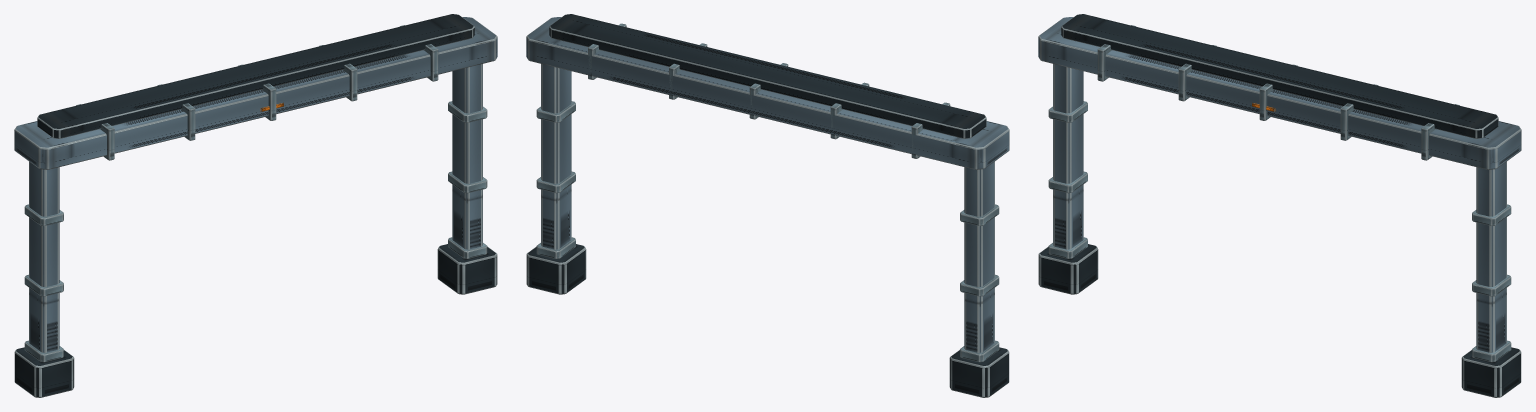
Rendered from V46_ServiceGantry.fbx.
The picture shows the model from 3 angles, left to right: view 1: azimuth 30°, elevation 25°; view 2: azimuth 150°, elevation 25°; view 3: azimuth 330°, elevation 25°; orthographic projection.
Visible parts, largest first — view 1: V46_ServiceGantry; view 2: V46_ServiceGantry; view 3: V46_ServiceGantry.
Boxes of the visible parts, x1=… form: V46_ServiceGantry: x1=14, y1=14, x2=497, y2=397; V46_ServiceGantry: x1=526, y1=14, x2=1009, y2=397; V46_ServiceGantry: x1=1038, y1=14, x2=1521, y2=397.
Bounding box in the file's own units: 7.44 × 4.03 × 0.94.
